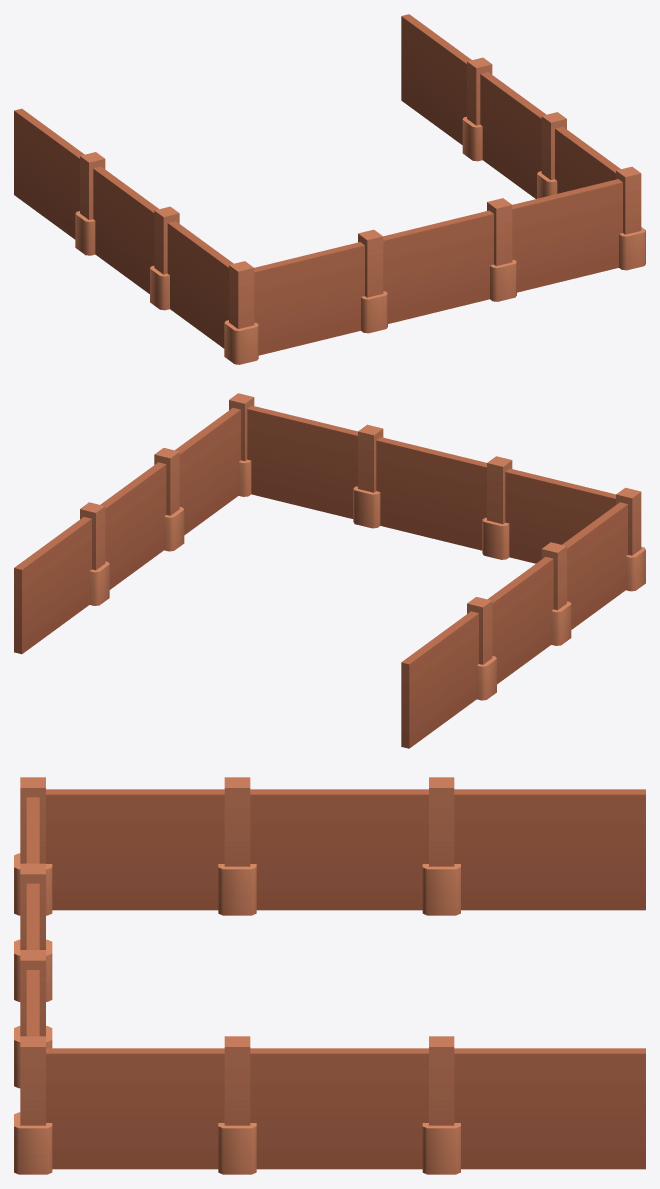
The model's file is sub-fence-3x3.glb.
3 renders of one model, top to bottom at view 1: azimuth 30°, elevation 25°; view 2: azimuth 150°, elevation 25°; view 3: azimuth 270°, elevation 25°, orthographic. The views are drawn at different scales.
Parts seen in each view (by area): view 1: fence-3x3; view 2: fence-3x3; view 3: fence-3x3.
Boxes of the visible parts, bbox=[...] form: fence-3x3: bbox=[14, 14, 645, 364]; fence-3x3: bbox=[14, 393, 645, 748]; fence-3x3: bbox=[14, 777, 645, 1174].
Size of the model in its own units: 12.75 by 2.7 by 12.37.
1 material, 1 textured.
